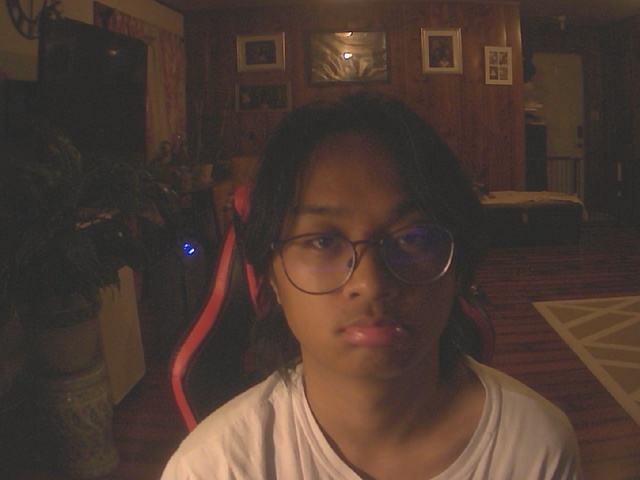sad: (235, 90, 485, 391)
